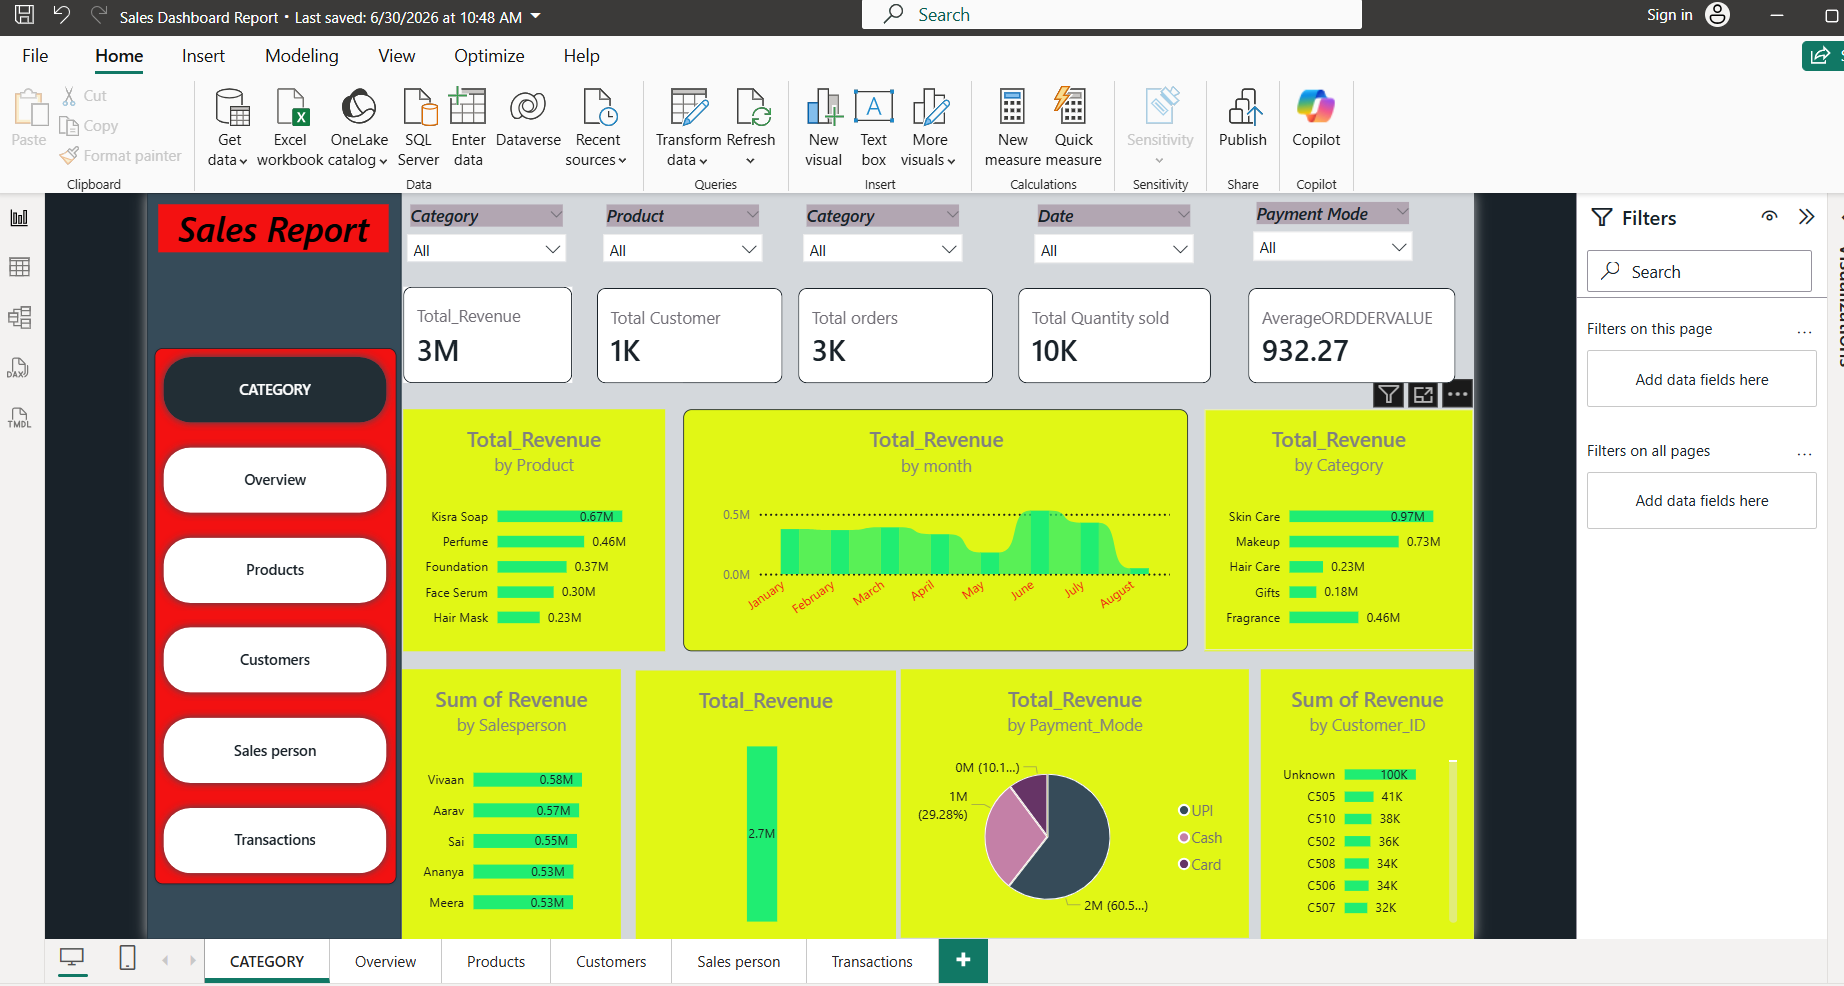

The page's visual inventory and layout, read from the dashboard file:
{"tool":"powerbi","page":{"name":"CATEGORY","canvas":[1280,720],"ordinal":0},"visuals":[{"type":"shape","box":[0,0,245.6,720.4],"z":0},{"type":"clusteredBarChart","fields":{"Category":["hana_cleaned.Category"],"Y":["hana_cleaned.Total_Revenue"]},"box":[1020.9,208.6,259.3,233.3],"z":1000},{"type":"clusteredBarChart","fields":{"Category":["hana_cleaned.Product"],"Y":["hana_cleaned.Total_Revenue"]},"box":[247,208.6,252.5,233.3],"z":2000},{"type":"ribbonChart","fields":{"Category":["hana_cleaned.month"],"Y":["hana_cleaned.Total_Revenue"]},"box":[517.3,208.6,487.1,233.3],"z":3000},{"type":"clusteredBarChart","fields":{"Category":["hana_cleaned.Salesperson"],"Y":["Sum(hana_cleaned.Revenue)"]},"box":[245.6,459.7,211.3,260.7],"z":4000},{"type":"ribbonChart","fields":{"Y":["hana_cleaned.Total_Revenue"]},"box":[472,461.1,251.1,259.3],"z":5000},{"type":"cardVisual","fields":{"Data":["hana_cleaned.Total Customer"]},"box":[434.7,91.2,179.6,92.7],"z":6000},{"type":"cardVisual","fields":{"Data":["hana_cleaned.Total orders"]},"box":[628.6,91.2,188.2,92.7],"z":7000},{"type":"cardVisual","fields":{"Data":["hana_cleaned.Total_Revenue"]},"box":[246.6,91.2,163.9,92.7],"z":8000},{"type":"cardVisual","fields":{"Data":["hana_cleaned.Total Quantity sold"]},"box":[841,91.2,186.7,92.7],"z":9000},{"type":"cardVisual","fields":{"Data":["hana_cleaned.AverageORDDERVALUE"]},"box":[1063.3,91.2,201,92.7],"z":10000},{"type":"slicer","fields":{"Values":["hana_cleaned.Date","hana_cleaned.month"]},"box":[852.1,11,163.3,57.6],"z":11000},{"type":"slicer","fields":{"Values":["hana_cleaned.Payment_Mode"]},"box":[1063.5,8.2,163.3,57.6],"z":12000},{"type":"slicer","fields":{"Values":["hana_cleaned.Category"]},"box":[628.5,11,163.3,54.9],"z":13000},{"type":"slicer","fields":{"Values":["hana_cleaned.Product"]},"box":[435,11,163.3,54.9],"z":14000},{"type":"slicer","fields":{"Values":["hana_cleaned.Customer_Type"]},"box":[245.6,11,163.3,54.9],"z":15000},{"type":"clusteredBarChart","fields":{"Category":["hana_cleaned.Customer_ID"],"Y":["Sum(hana_cleaned.Revenue)"]},"box":[1074.4,459.7,205.8,260.7],"z":16000},{"type":"pieChart","fields":{"Category":["hana_cleaned.Payment_Mode"],"Y":["hana_cleaned.Total_Revenue"]},"box":[727.3,459.7,336.2,259.3],"z":17000},{"type":"pageNavigator","box":[0,201.7,233.3,518],"z":18000},{"type":"textbox","title":"Sales Report","box":[11.4,11.4,222.4,75.5],"z":19000}]}

Visuals, with their boxes in screenshot pixels (x1, y1, x2, y2):
shape: (38, 0, 394, 977)
clusteredBarChart - hana_cleaned.Category x hana_cleaned.Total_Revenue: (1518, 235, 1843, 573)
clusteredBarChart - hana_cleaned.Product x hana_cleaned.Total_Revenue: (396, 235, 762, 573)
ribbonChart - hana_cleaned.month x hana_cleaned.Total_Revenue: (788, 235, 1494, 573)
clusteredBarChart - hana_cleaned.Salesperson x Sum(hana_cleaned.Revenue): (394, 599, 701, 977)
ribbonChart - hana_cleaned.Total_Revenue: (722, 601, 1086, 977)
cardVisual - hana_cleaned.Total Customer: (668, 65, 929, 199)
cardVisual - hana_cleaned.Total orders: (949, 65, 1222, 199)
cardVisual - hana_cleaned.Total_Revenue: (396, 65, 633, 199)
cardVisual - hana_cleaned.Total Quantity sold: (1257, 65, 1528, 199)
cardVisual - hana_cleaned.AverageORDDERVALUE: (1579, 65, 1843, 199)
slicer - hana_cleaned.Date x hana_cleaned.month: (1273, 0, 1510, 32)
slicer - hana_cleaned.Payment_Mode: (1580, 0, 1816, 28)
slicer - hana_cleaned.Category: (949, 0, 1186, 28)
slicer - hana_cleaned.Product: (669, 0, 906, 28)
slicer - hana_cleaned.Customer_Type: (394, 0, 631, 28)
clusteredBarChart - hana_cleaned.Customer_ID x Sum(hana_cleaned.Revenue): (1596, 599, 1843, 977)
pieChart - hana_cleaned.Payment_Mode x hana_cleaned.Total_Revenue: (1092, 599, 1580, 975)
pageNavigator: (38, 225, 377, 976)
"Sales Report" textbox: (55, 0, 377, 59)
